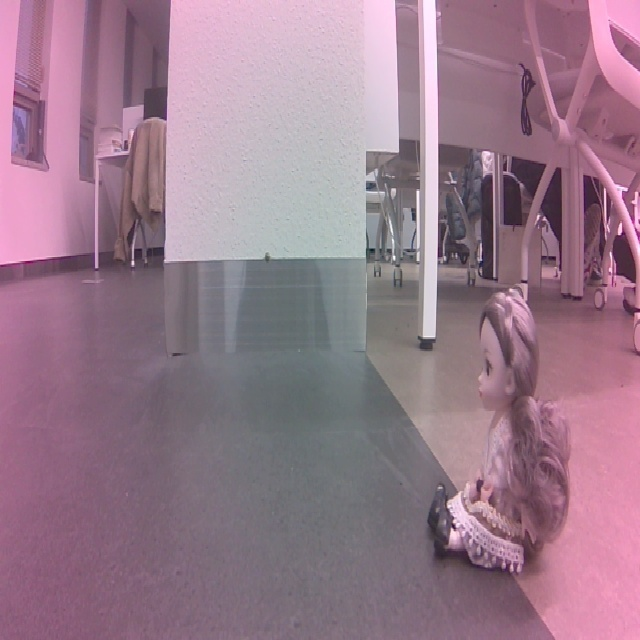장애물: (547, 260, 640, 551)
